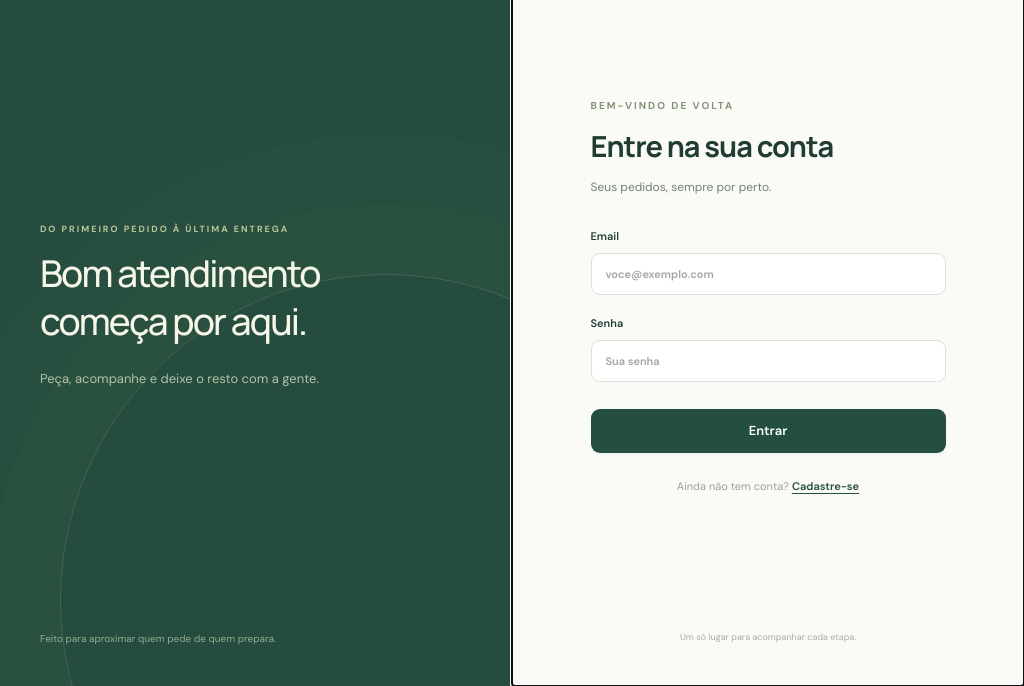
Test: creates a restricted order payload and displays the official total
Type "ana@example.com" into the field labelled "Email" at coordinates (768, 274), box x1=590 y1=253 x2=946 y2=295
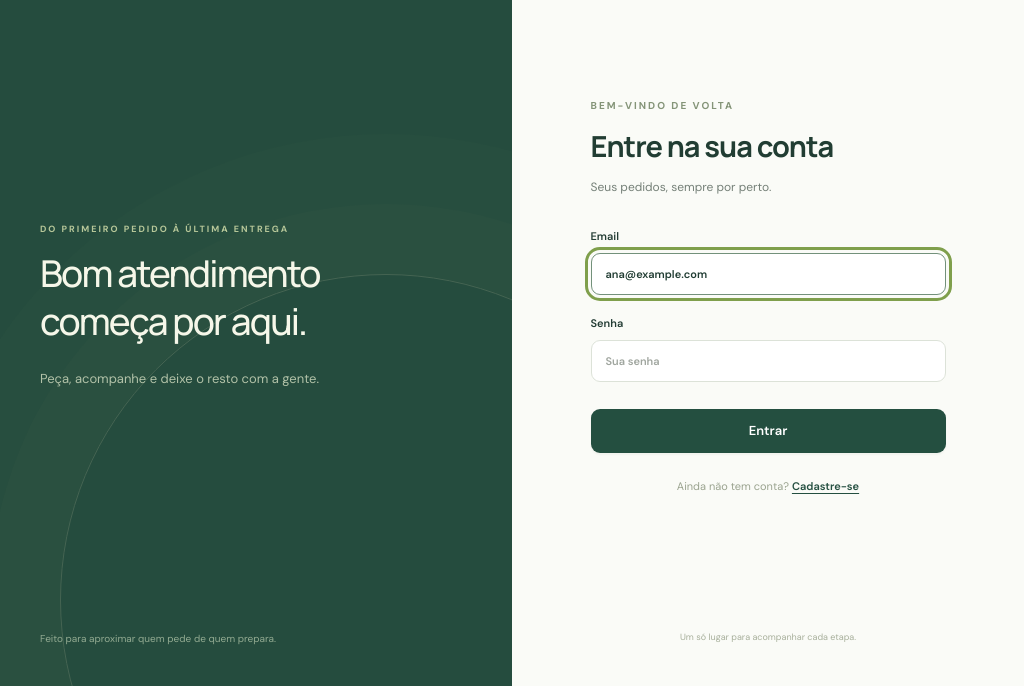
Type "senha" into the password field labelled "Senha" at coordinates (768, 361), box x1=590 y1=340 x2=946 y2=382
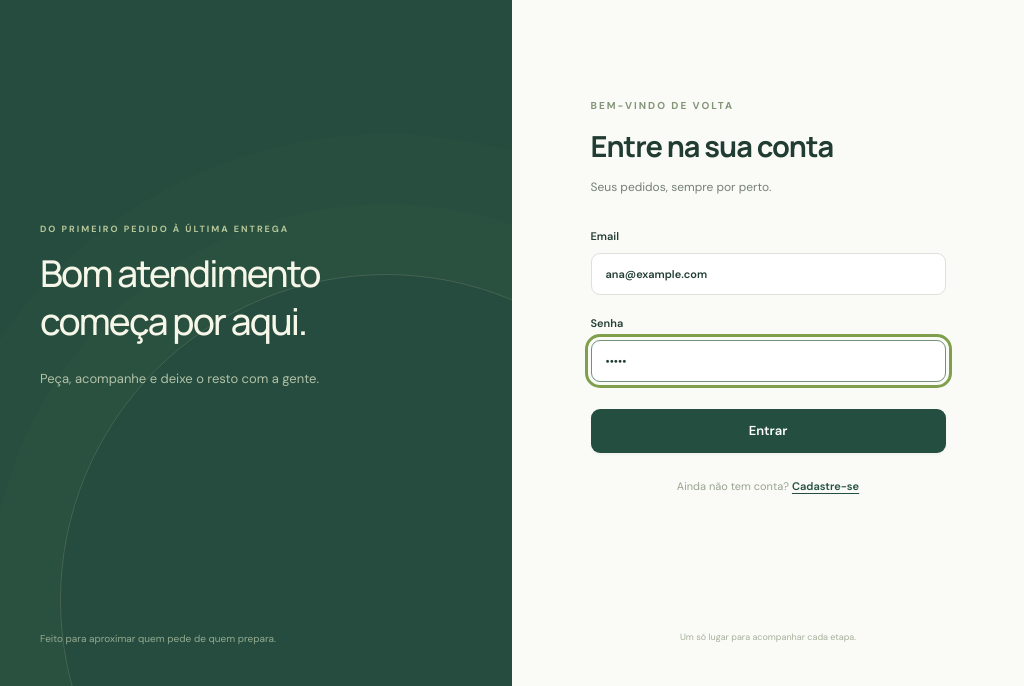
Click the button "Entrar" at coordinates (768, 431), box x1=590 y1=409 x2=946 y2=453
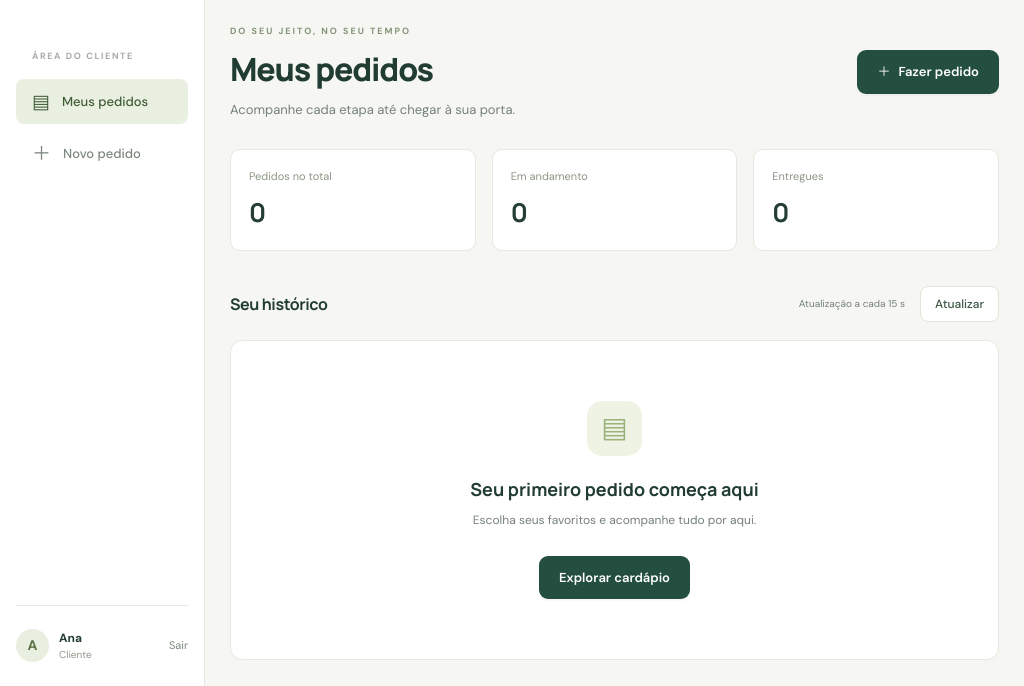
Click the link "＋ Novo pedido" at coordinates (86, 154), box x1=32 y1=141 x2=141 y2=166
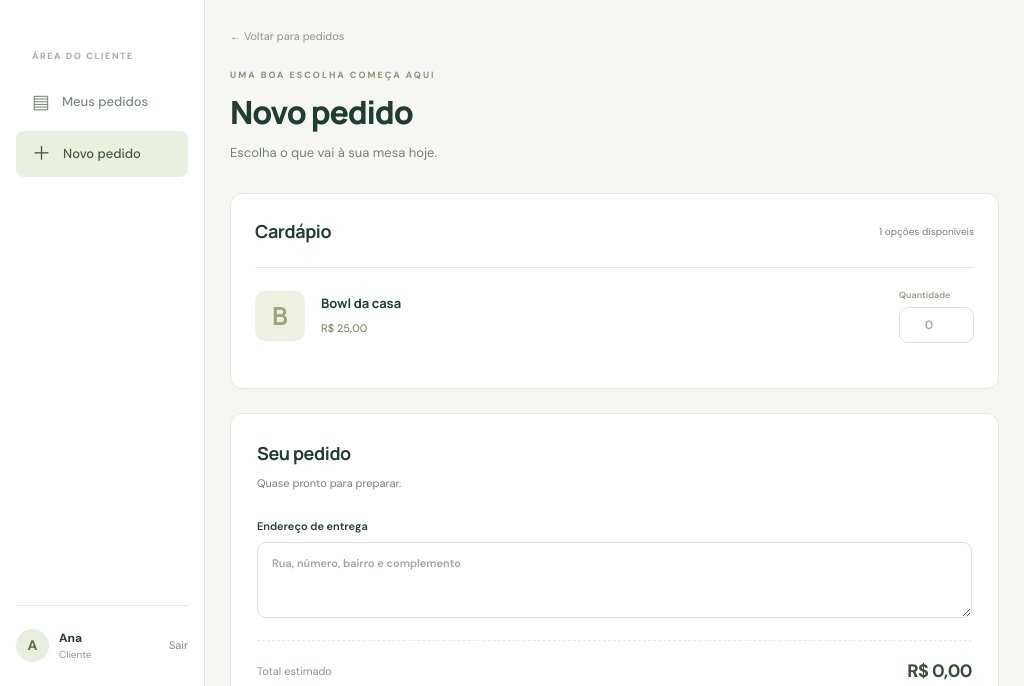
Type "2" into the number field named "Quantidade de Bowl da casa" at coordinates (936, 325), box x1=899 y1=307 x2=974 y2=343
Type "Rua das Flores, 24" into the text box labelled "Endereço de entrega" at coordinates (614, 580), box x1=257 y1=542 x2=972 y2=618
(page scrolled)
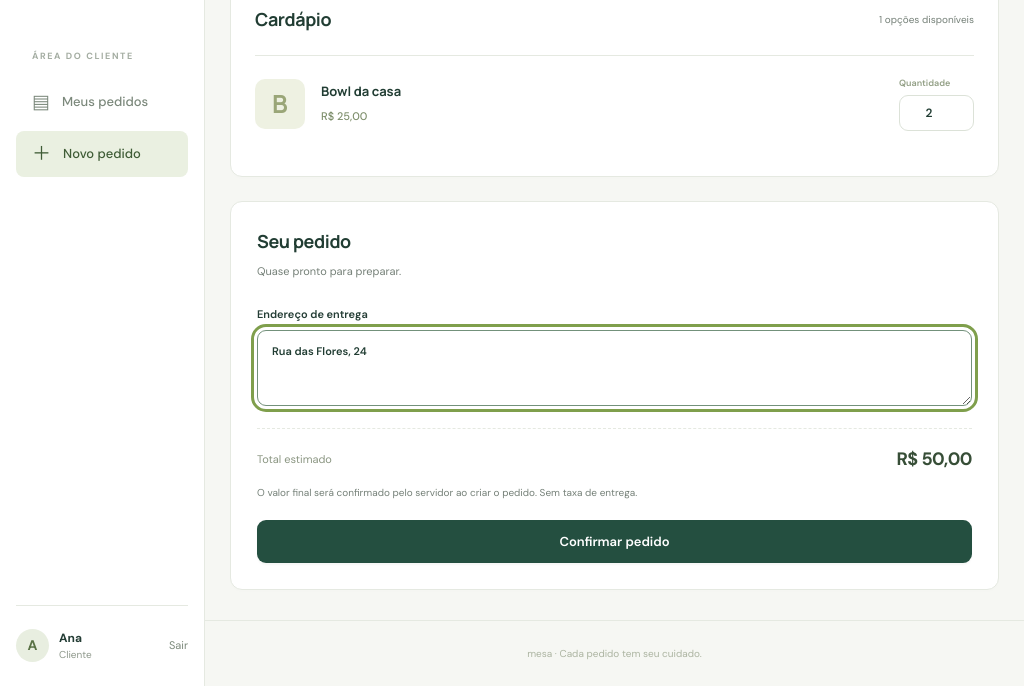
Click the button "Confirmar pedido" at coordinates (614, 542), box x1=257 y1=520 x2=972 y2=563
(page scrolled)
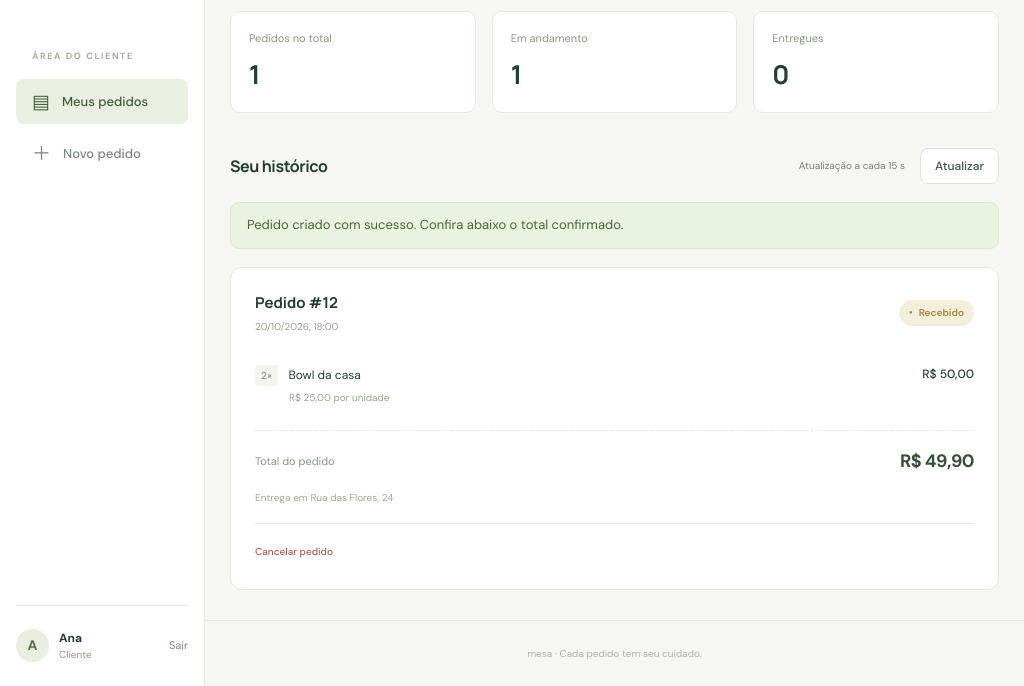
Result: the heading "Pedido #12" is shown at x1=255 y1=292 x2=338 y2=314
Result: the text "R$ 49,90" is shown at x1=900 y1=449 x2=974 y2=473
